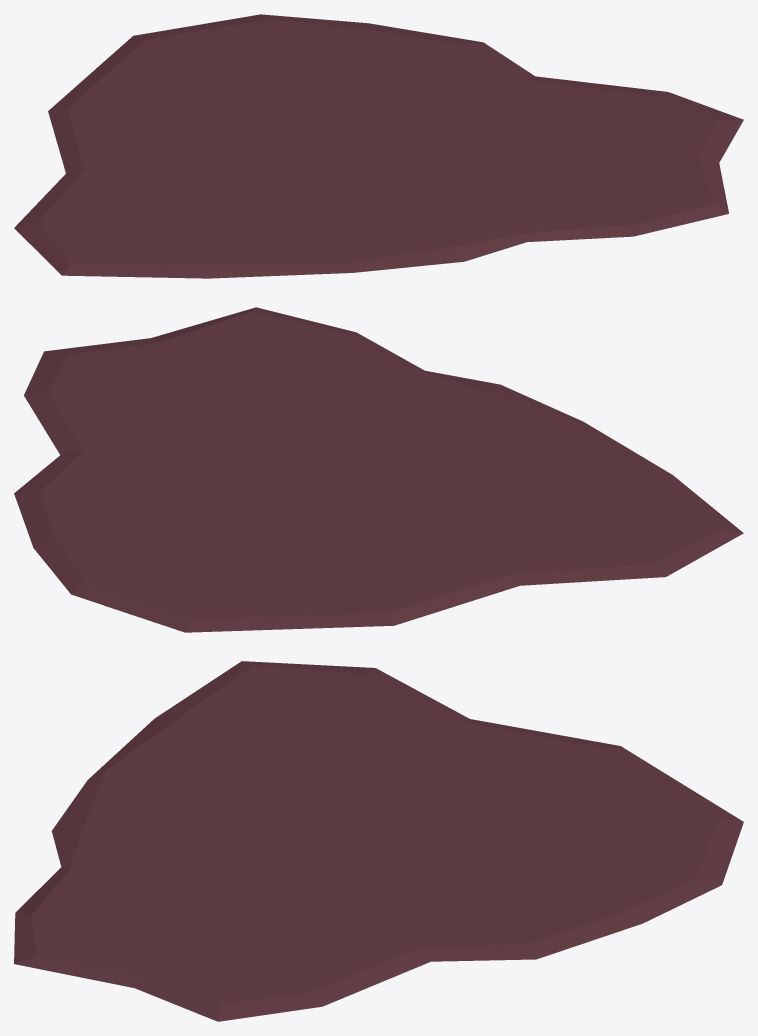
The model's file is apocalypse-blood-e.glb.
The picture shows the model from 3 angles, top to bottom: view 1: azimuth 30°, elevation 25°; view 2: azimuth 150°, elevation 25°; view 3: azimuth 270°, elevation 25°; orthographic projection. The views are drawn at different scales.
Parts seen in each view (by area): view 1: blood-e; view 2: blood-e; view 3: blood-e.
Part boxes in pixels (bbox=[...]): blood-e: bbox=[14, 14, 743, 278]; blood-e: bbox=[14, 307, 743, 632]; blood-e: bbox=[14, 661, 743, 1021].
Bounding box in the file's own units: 0.5988 × 0.00348 × 0.5121.
